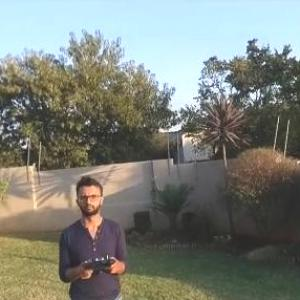follow: (54, 168, 138, 299)
